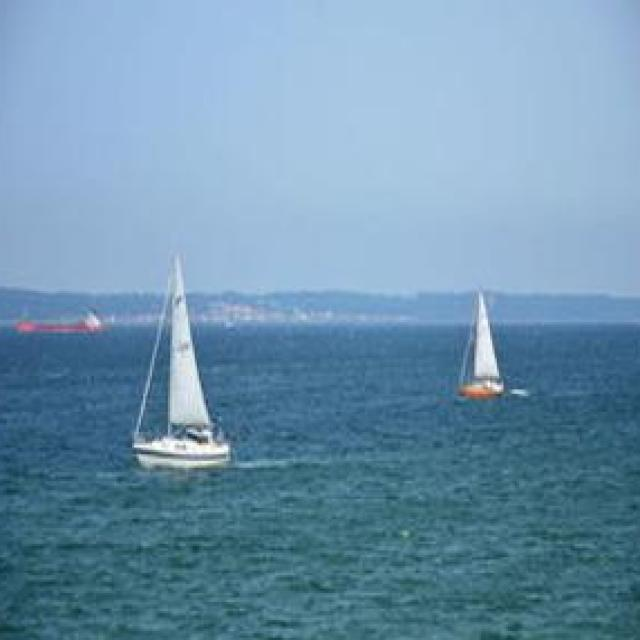cargoship: (5, 300, 116, 337)
sailboat: (128, 238, 235, 474), (452, 284, 510, 402)
